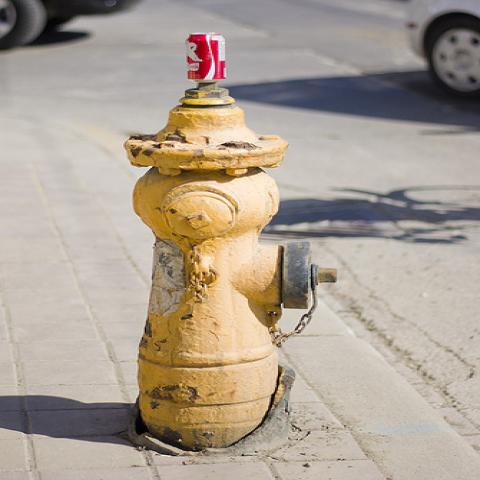car: (405, 0, 479, 94), (0, 0, 130, 52)
